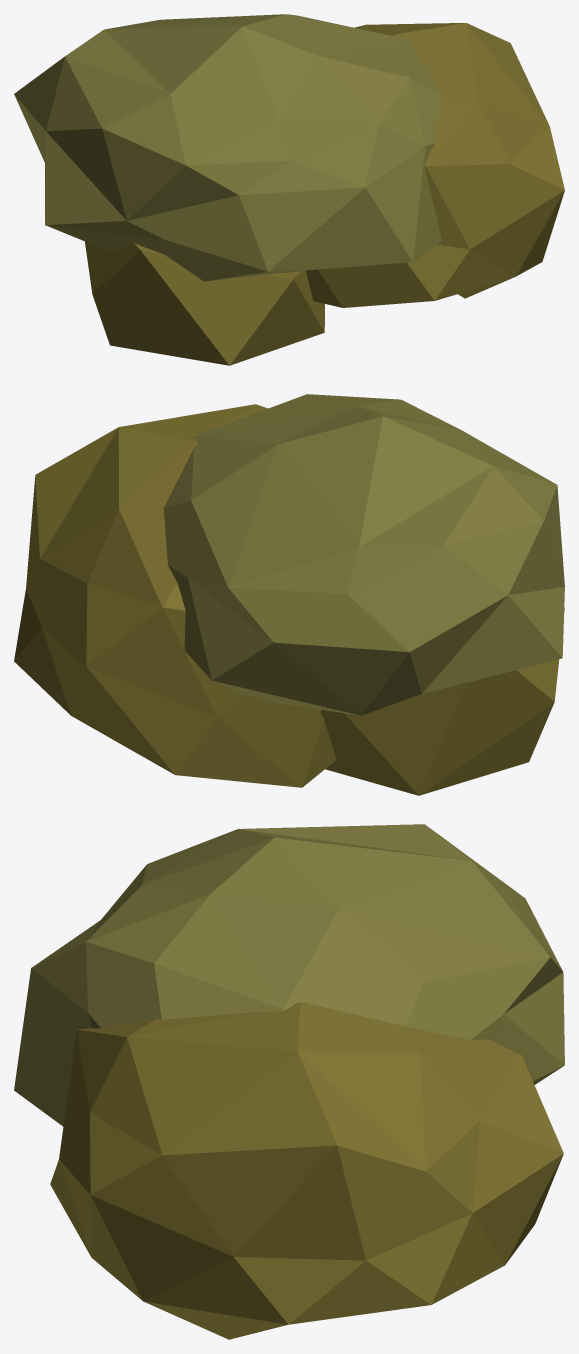
File: enchantedforest_bush_4.fbx
The picture shows the model from 3 angles, top to bottom: view 1: azimuth 30°, elevation 25°; view 2: azimuth 150°, elevation 25°; view 3: azimuth 270°, elevation 25°; orthographic projection. The views are drawn at different scales.
Parts seen in each view (by area): view 1: Icosphere.008; view 2: Icosphere.008; view 3: Icosphere.008.
Boxes of the visible parts, bbox=[...] form: Icosphere.008: bbox=[14, 14, 564, 365]; Icosphere.008: bbox=[14, 394, 564, 795]; Icosphere.008: bbox=[14, 824, 564, 1339].
Bounding box in the file's own units: 266 × 161 × 212.
